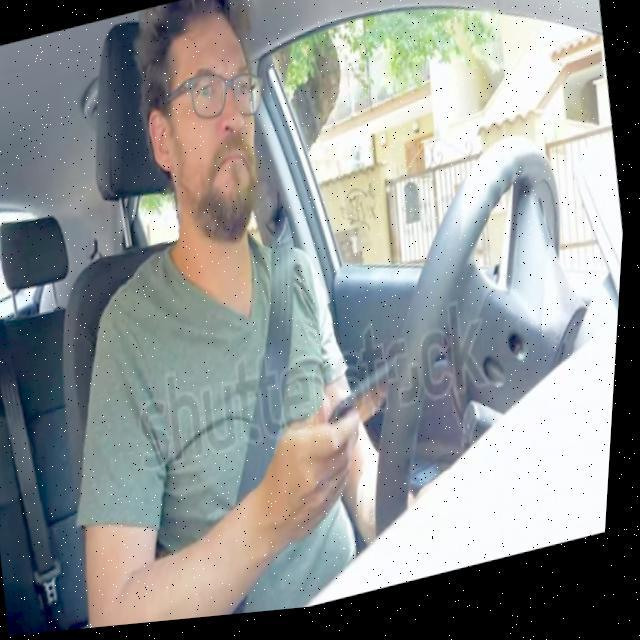PhoneCall: (322, 359, 418, 439)
